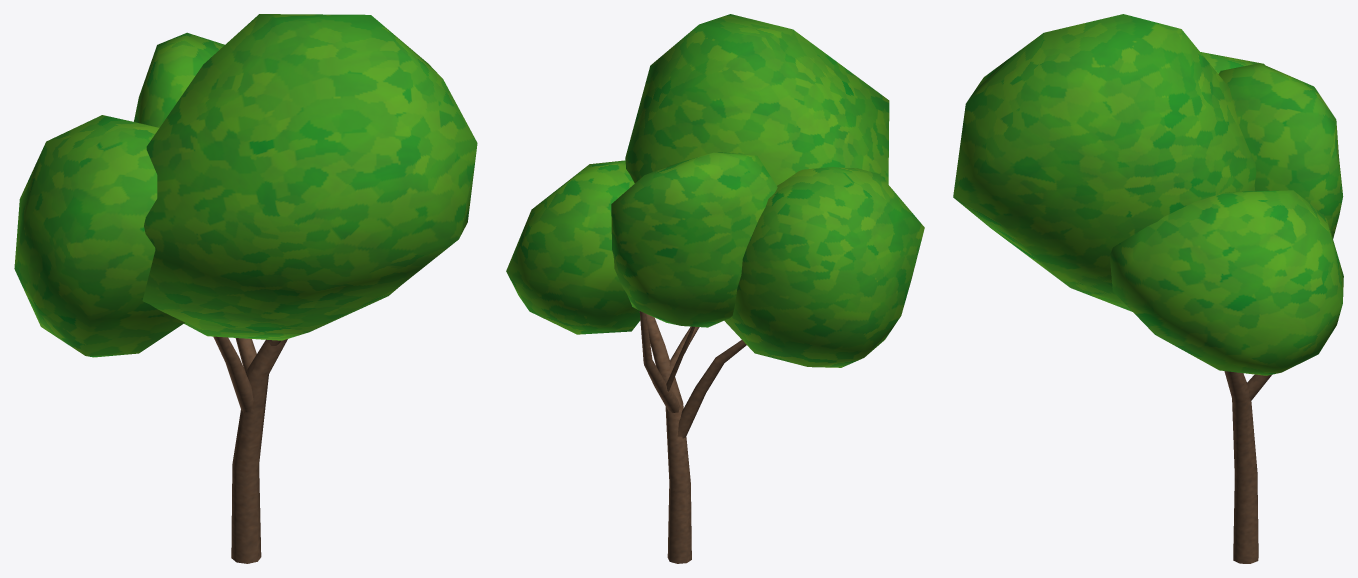
The model's file is Cartoon_tree.fbx.
The picture shows the model from 3 angles, left to right: view 1: azimuth 30°, elevation 25°; view 2: azimuth 150°, elevation 25°; view 3: azimuth 270°, elevation 25°; orthographic projection. The views are drawn at different scales.
Visible parts, largest first — view 1: Cartoon_tree; view 2: Cartoon_tree; view 3: Cartoon_tree.
Part boxes in pixels (bbox=[...]): Cartoon_tree: bbox=[14, 14, 477, 563]; Cartoon_tree: bbox=[506, 14, 924, 563]; Cartoon_tree: bbox=[953, 14, 1343, 563].
Size of the model in its own units: 2.44 by 3.17 by 2.1.
